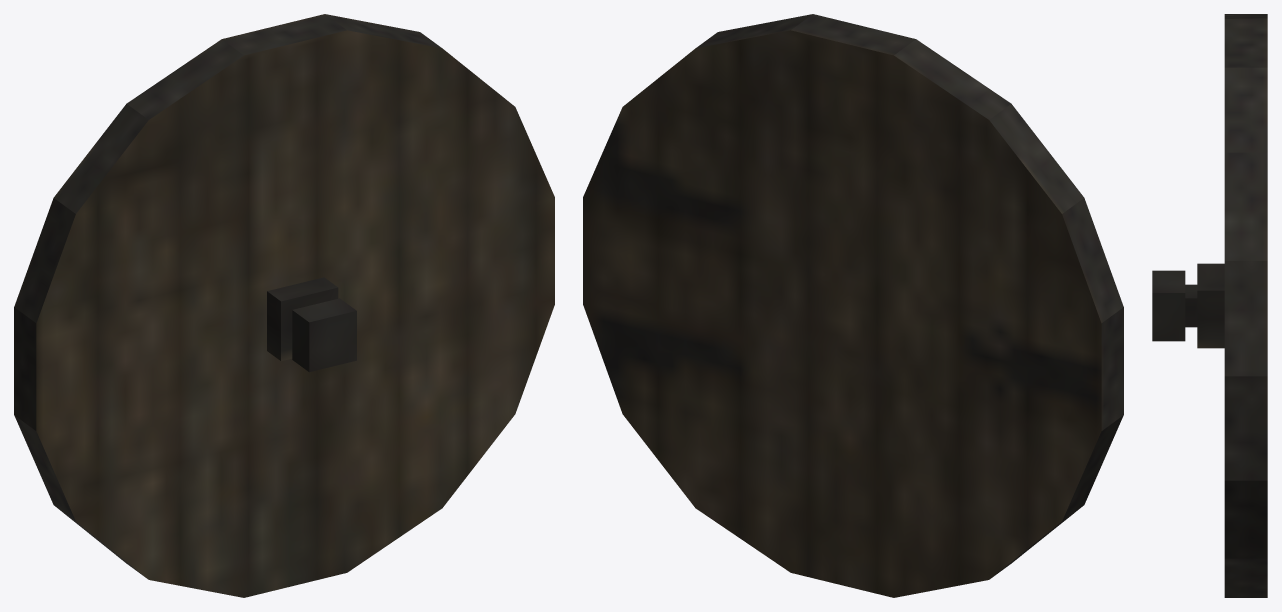
File: hobbit_door_3x3_wood.obj
3 renders of one model, left to right at view 1: azimuth 30°, elevation 25°; view 2: azimuth 150°, elevation 25°; view 3: azimuth 270°, elevation 25°, orthographic. The views are drawn at different scales.
Parts seen in each view (by area): view 1: cylinder, cube; view 2: cylinder; view 3: cylinder, cube.
Part boxes in pixels (x1,y1,x2,y2): cylinder: (14,14,554,597); cube: (267,277,356,372); cylinder: (583,14,1123,597); cylinder: (1224,14,1267,597); cube: (1152,263,1224,348).
Bounding box in the file's own units: 2.57 × 2.57 × 0.5123.
